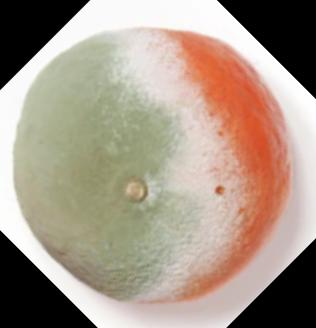Orange Rotten: (9, 23, 299, 310)
